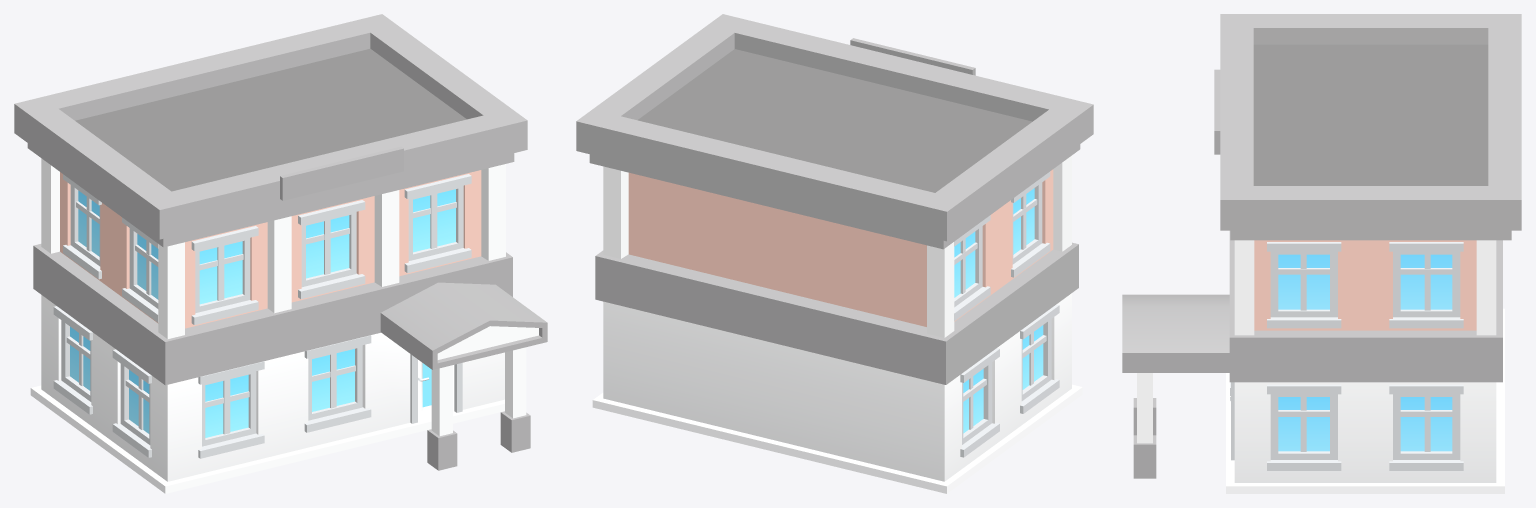
File: Building_Living_35.glb
3 renders of one model, left to right at view 1: azimuth 30°, elevation 25°; view 2: azimuth 150°, elevation 25°; view 3: azimuth 270°, elevation 25°, orthographic. The views are drawn at different scales.
Parts seen in each view (by area): view 1: Building_Living_35; view 2: Building_Living_35; view 3: Building_Living_35.
Part boxes in pixels (x1,y1,x2,y2): Building_Living_35: [14, 14, 547, 493]; Building_Living_35: [576, 14, 1093, 493]; Building_Living_35: [1122, 14, 1521, 493].
Bounding box in the file's own units: 10.33 × 7.85 × 9.38.
1 material, 1 textured.
